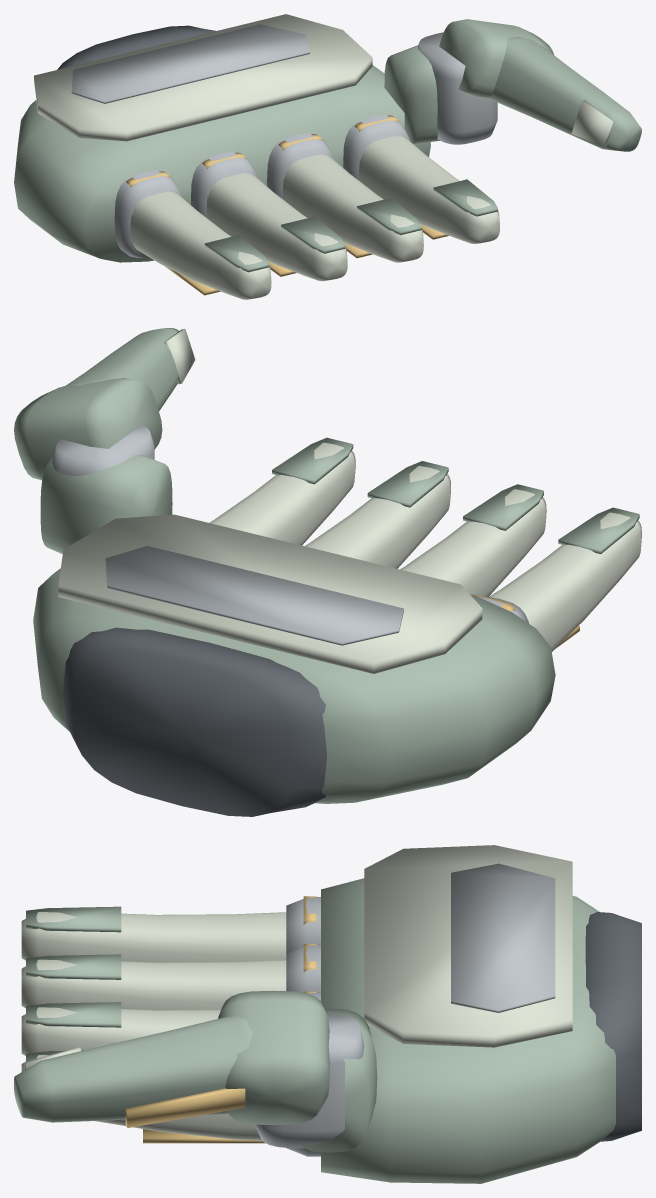
File: talon6.glb
3 renders of one model, top to bottom at view 1: azimuth 30°, elevation 25°; view 2: azimuth 150°, elevation 25°; view 3: azimuth 270°, elevation 25°, orthographic. The views are drawn at different scales.
Parts seen in each view (by area): view 1: visual__palm__0, visual__palm__3, visual__palm__1, visual__thumb_digit__0, visual__little_digit__0, visual__ring_digit__0, visual__middle_digit__0, visual__index_digit__0, visual__thumb_hub__0, visual__palm__2, visual__thumb_digit__1, visual__little_digit__1 (+4 smaller); view 2: visual__palm__0, visual__palm__2, visual__palm__1, visual__palm__3, visual__thumb_hub__0, visual__little_digit__0, visual__ring_digit__0, visual__index_digit__0, visual__middle_digit__0, visual__thumb_digit__0, visual__index_digit__1, visual__little_digit__1 (+3 smaller); view 3: visual__palm__0, visual__palm__1, visual__palm__3, visual__thumb_digit__0, visual__thumb_hub__0, visual__little_digit__0, visual__ring_digit__0, visual__palm__2, visual__middle_digit__0, visual__thumb_digit__2, visual__index_digit__0, visual__middle_digit__1 (+3 smaller).
Boxes of the visible parts, left/top/right/bottom form: visual__palm__0: left=14, top=45, right=439, bottom=262; visual__palm__3: left=71, top=24, right=497, bottom=257; visual__palm__1: left=34, top=14, right=372, bottom=141; visual__thumb_digit__0: left=489, top=36, right=641, bottom=151; visual__little_digit__0: left=130, top=191, right=271, bottom=299; visual__ring_digit__0: left=206, top=173, right=347, bottom=281; visual__middle_digit__0: left=282, top=154, right=423, bottom=262; visual__index_digit__0: left=359, top=136, right=499, bottom=243; visual__thumb_hub__0: left=439, top=19, right=553, bottom=98; visual__palm__2: left=57, top=25, right=215, bottom=69; visual__thumb_digit__1: left=571, top=100, right=613, bottom=146; visual__little_digit__1: left=204, top=235, right=269, bottom=272; visual__palm__0: left=33, top=455, right=555, bottom=803; visual__palm__2: left=63, top=627, right=326, bottom=816; visual__palm__1: left=58, top=514, right=482, bottom=673; visual__palm__3: left=52, top=425, right=528, bottom=645; visual__thumb_hub__0: left=14, top=377, right=162, bottom=480; visual__little_digit__0: left=489, top=512, right=641, bottom=651; visual__ring_digit__0: left=400, top=489, right=546, bottom=596; visual__index_digit__0: left=209, top=442, right=355, bottom=545; visual__middle_digit__0: left=305, top=466, right=450, bottom=568; visual__thumb_digit__0: left=65, top=328, right=178, bottom=410; visual__index_digit__1: left=272, top=437, right=353, bottom=484; visual__little_digit__1: left=558, top=507, right=639, bottom=553; visual__palm__0: left=300, top=878, right=615, bottom=1183; visual__palm__1: left=364, top=845, right=572, bottom=1047; visual__palm__3: left=255, top=863, right=555, bottom=1156; visual__thumb_digit__0: left=14, top=1016, right=253, bottom=1122; visual__thumb_hub__0: left=218, top=990, right=329, bottom=1125; visual__little_digit__0: left=21, top=912, right=286, bottom=962; visual__ring_digit__0: left=21, top=959, right=286, bottom=1010; visual__palm__2: left=585, top=912, right=641, bottom=1141; visual__middle_digit__0: left=21, top=1007, right=220, bottom=1055; visual__thumb_digit__2: left=125, top=1088, right=245, bottom=1127; visual__index_digit__0: left=21, top=1055, right=262, bottom=1140; visual__middle_digit__1: left=26, top=1002, right=121, bottom=1027.
Bounding box in the file's own units: 0.1579 × 0.0609 × 0.1447.
